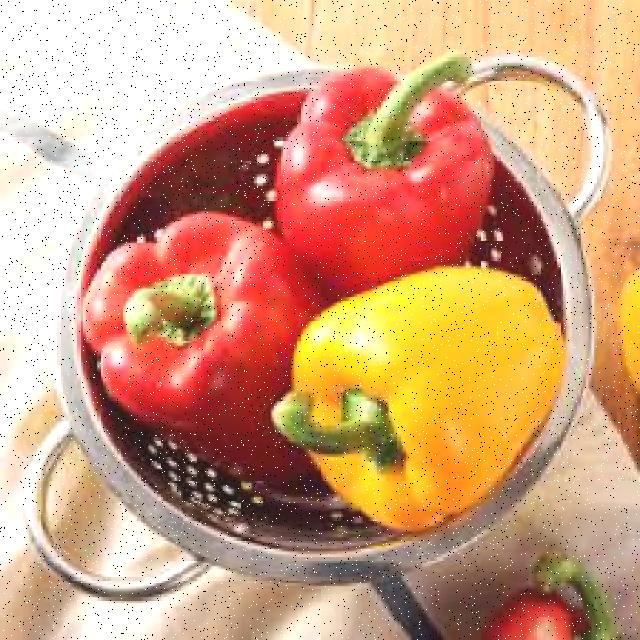Bell Pepper: (237, 265, 606, 540)
